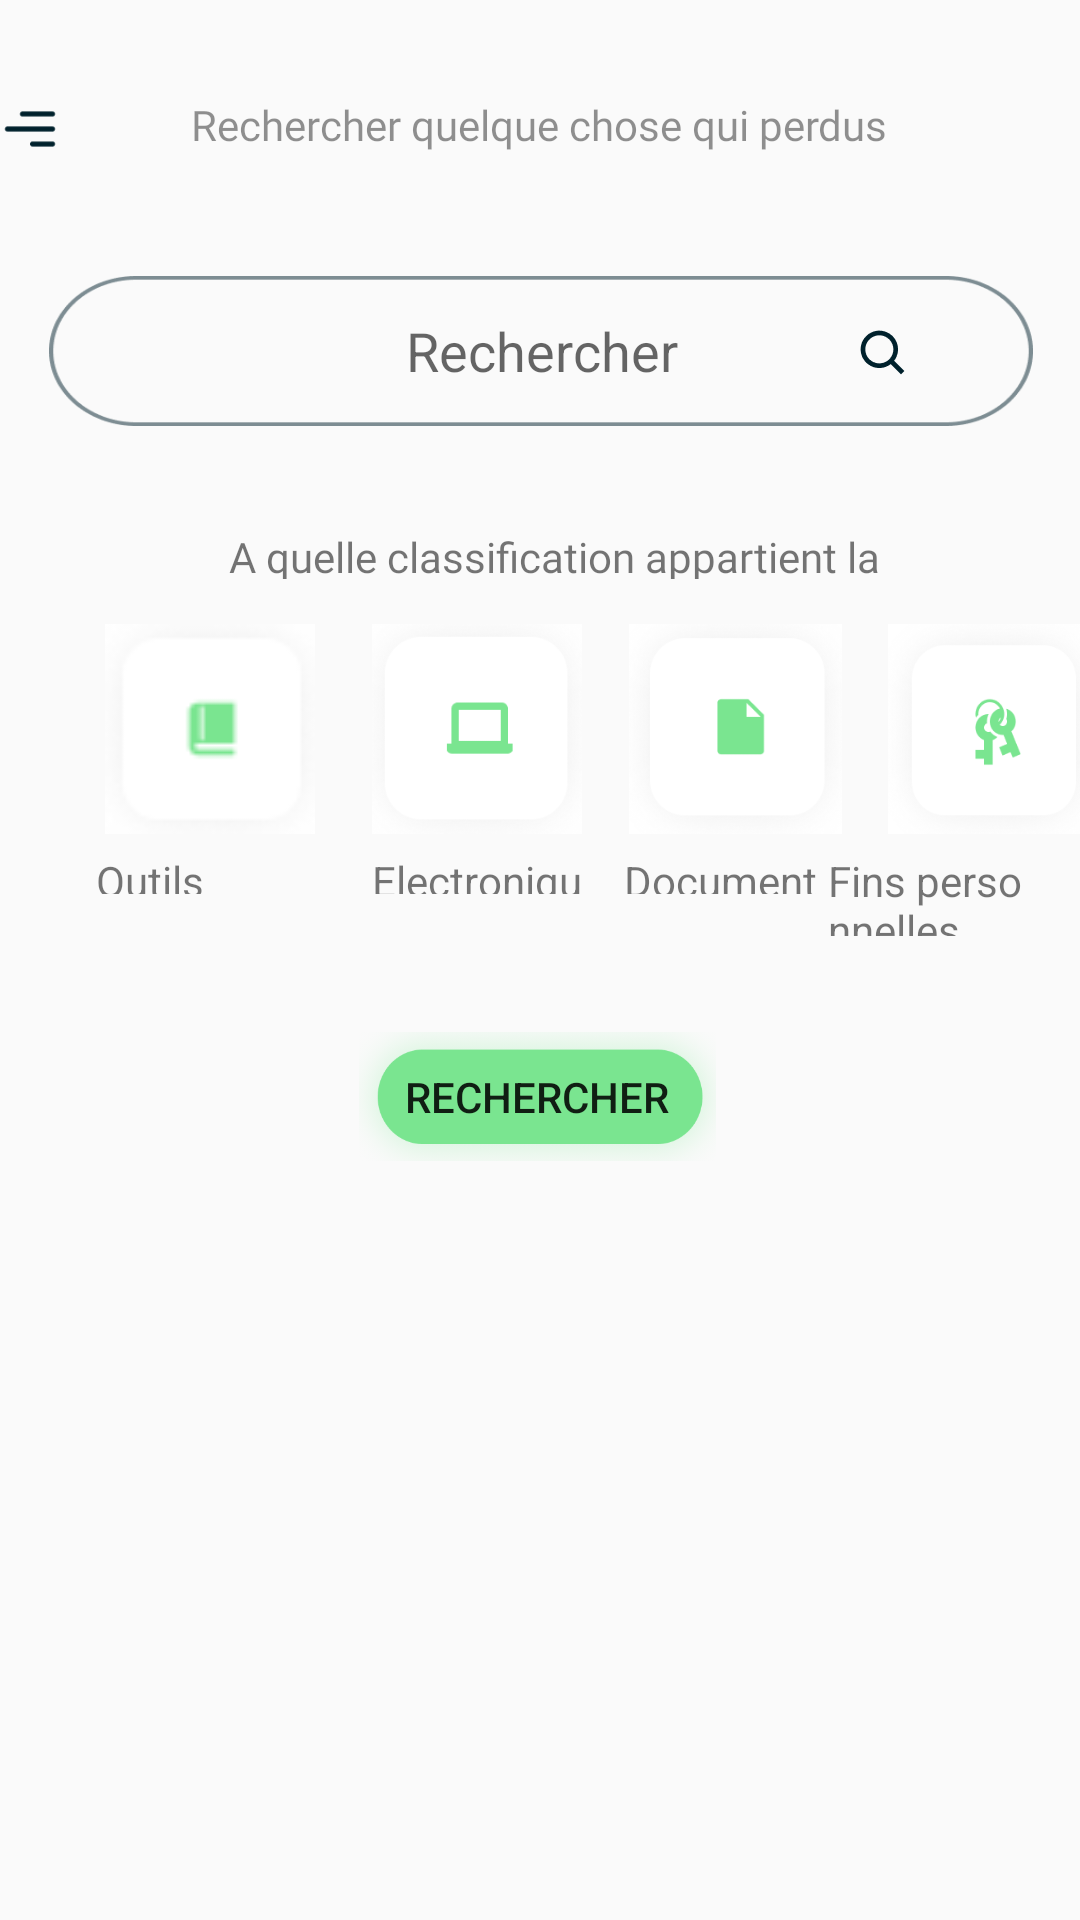

Icons on this 1080×1920 Android screen, each with the point to tap as (x,y):
doc: (740,727)
search ds: (882,352)
